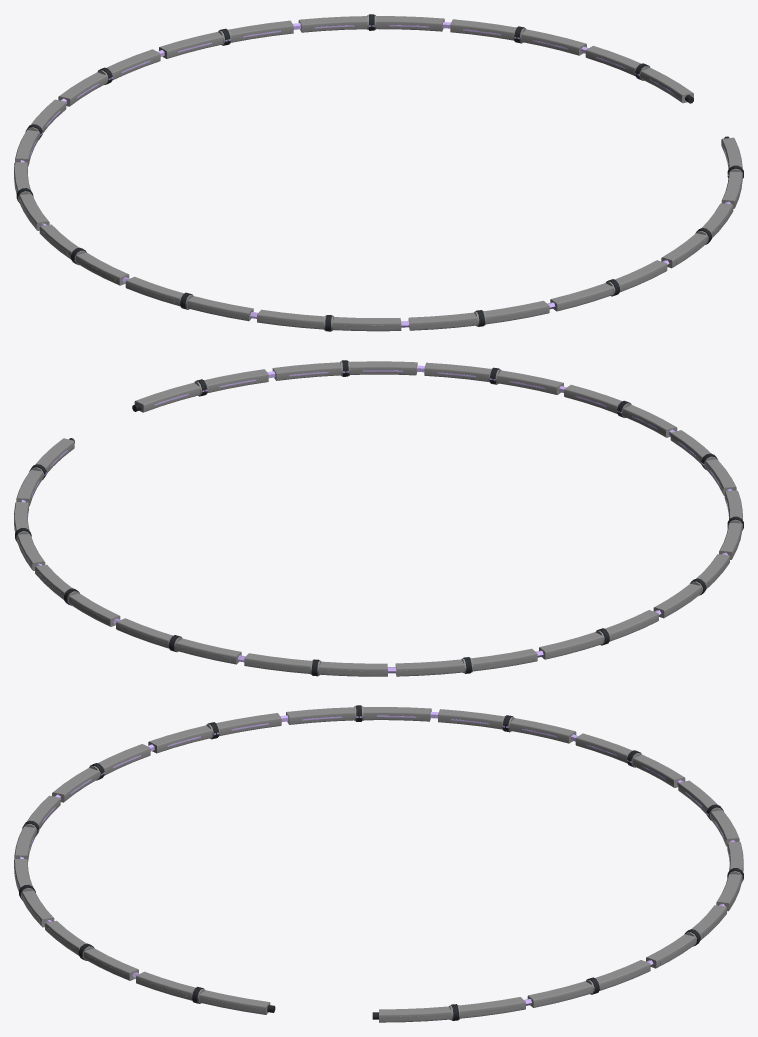
File: Core_Ring_D.fbx
The picture shows the model from 3 angles, top to bottom: view 1: azimuth 30°, elevation 25°; view 2: azimuth 150°, elevation 25°; view 3: azimuth 270°, elevation 25°; orthographic projection.
Visible parts, largest first — view 1: Core_Ring_D_LOD0; view 2: Core_Ring_D_LOD0; view 3: Core_Ring_D_LOD0.
Part boxes in pixels (x1=…): Core_Ring_D_LOD0: x1=14, y1=14, x2=743, y2=331; Core_Ring_D_LOD0: x1=14, y1=360, x2=743, y2=676; Core_Ring_D_LOD0: x1=14, y1=705, x2=743, y2=1022.
Size of what is drawn, in the model's own units: 26.12 by 0.5796 by 26.11.
